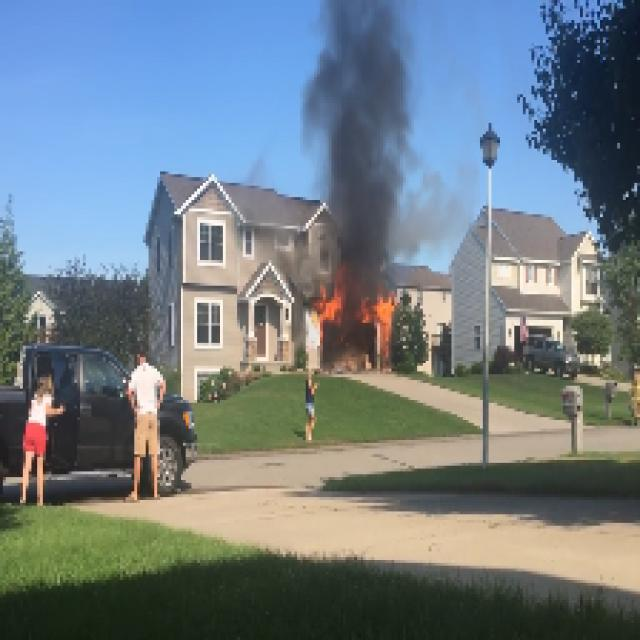fire: (321, 296, 394, 332)
smoke: (332, 11, 385, 277)
